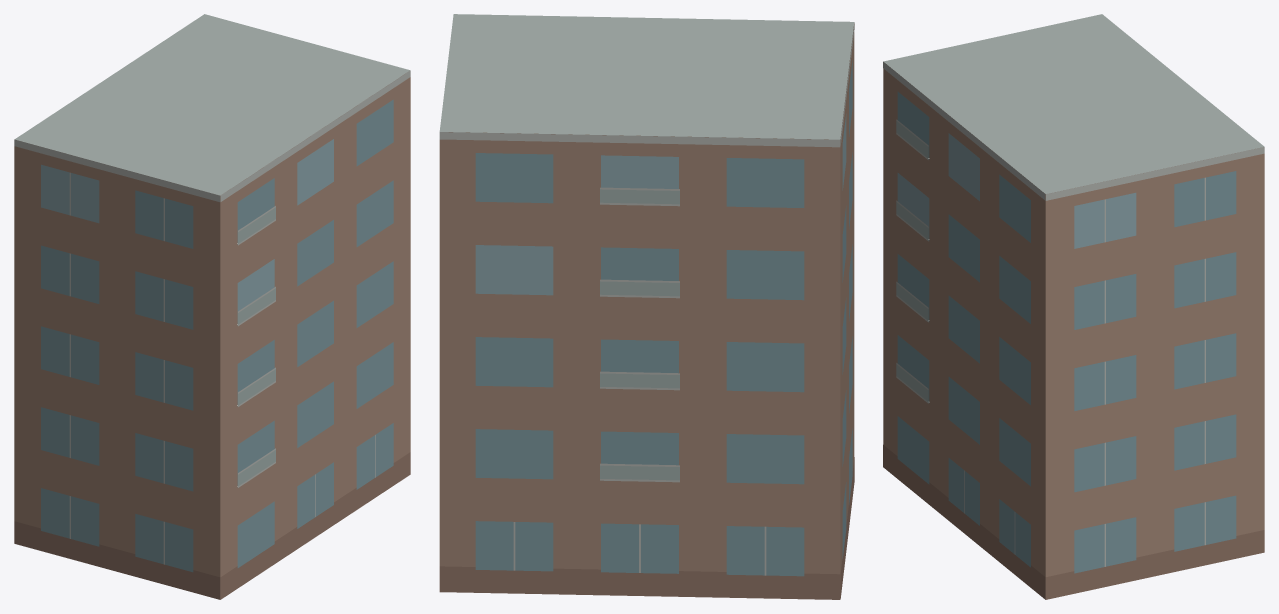
Rendered from survey-upis-32837298.glb.
3 renders of one model, left to right at view 1: azimuth 30°, elevation 25°; view 2: azimuth 150°, elevation 25°; view 3: azimuth 270°, elevation 25°, orthographic. The views are drawn at different scales.
Visible parts, largest first — view 1: survey-upis-32837298.tmp; view 2: survey-upis-32837298.tmp; view 3: survey-upis-32837298.tmp.
Boxes of the visible parts, bbox=[...] form: survey-upis-32837298.tmp: bbox=[14, 14, 410, 599]; survey-upis-32837298.tmp: bbox=[439, 14, 854, 599]; survey-upis-32837298.tmp: bbox=[883, 14, 1264, 599].
Size of the model in its own units: 14.01 by 14.7 by 12.54.
